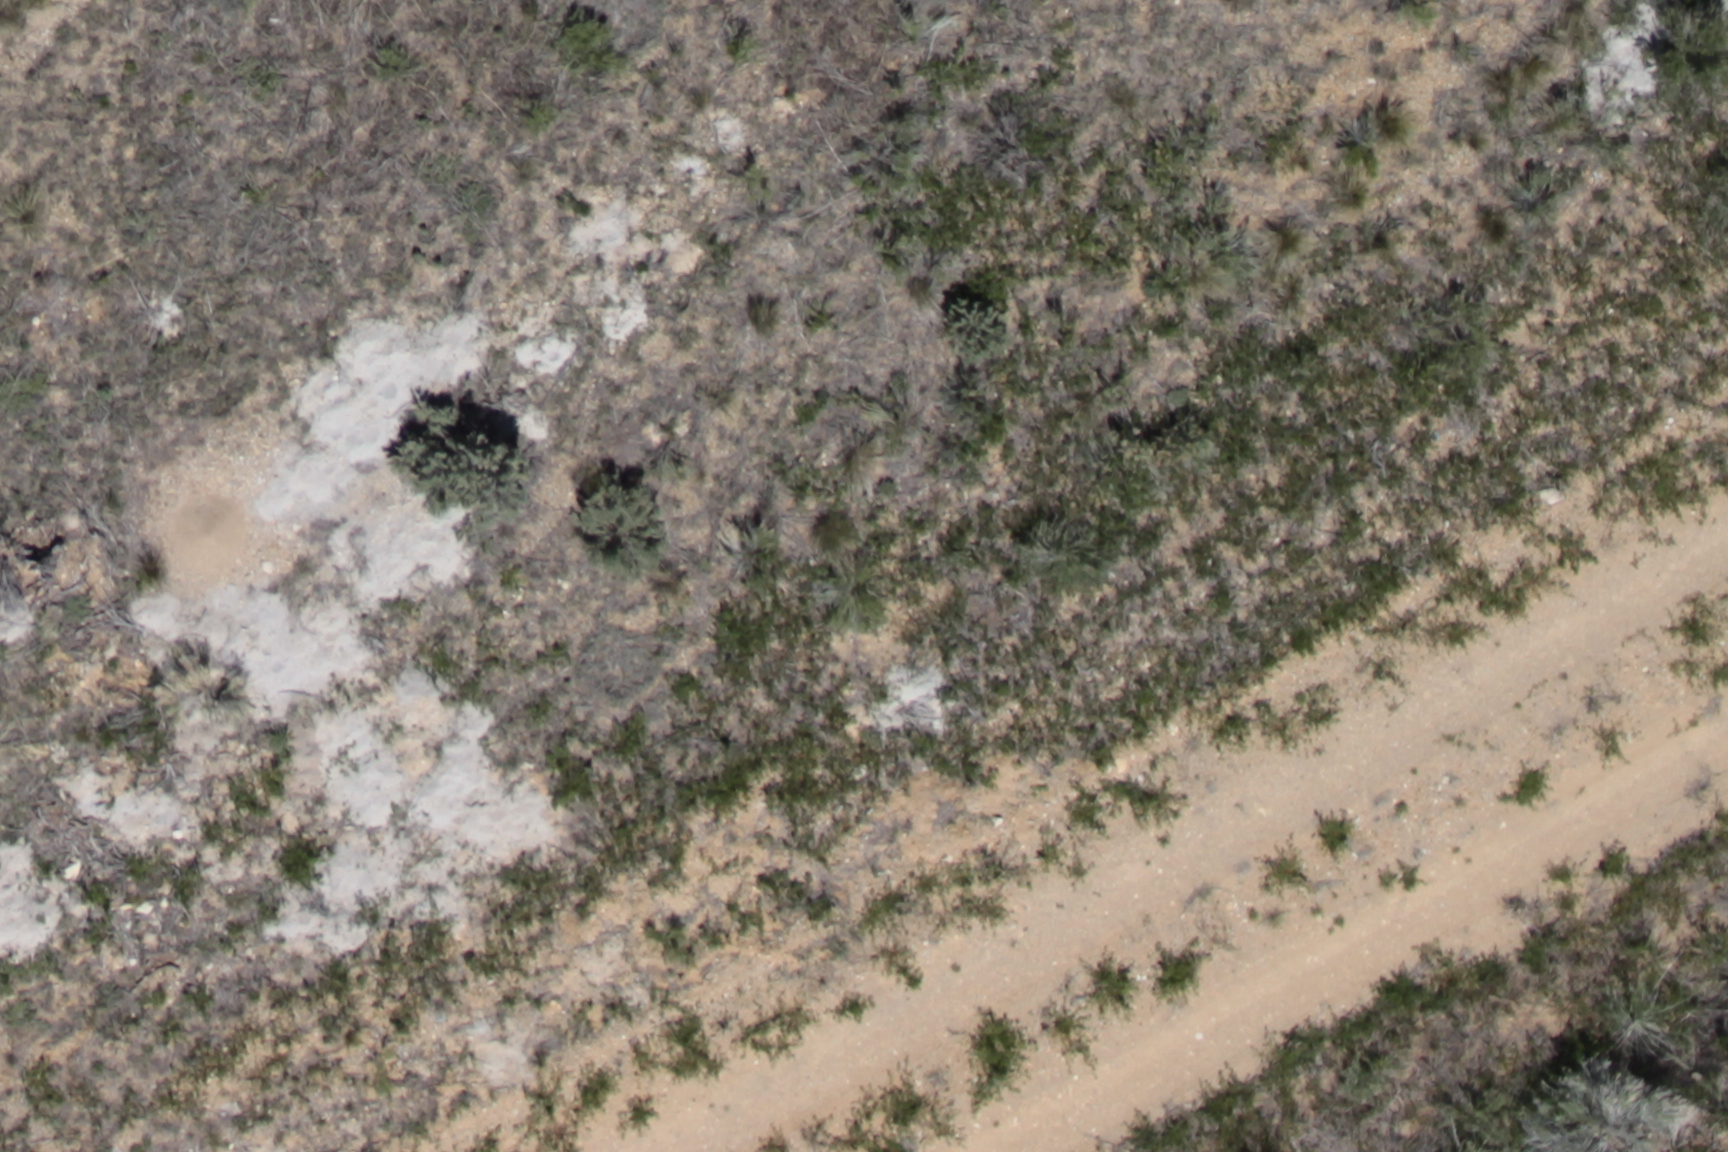burrow: (143, 481, 266, 597)
